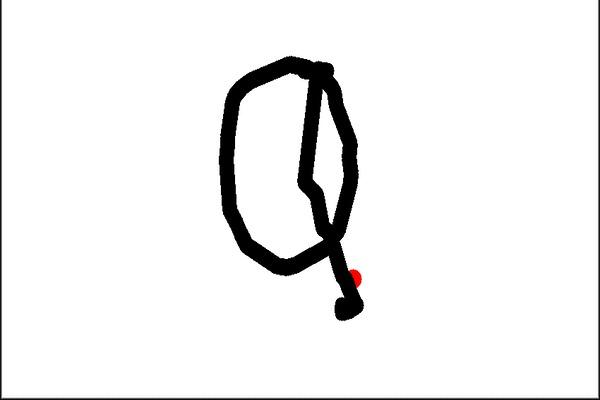Q: (201, 50, 391, 326)
